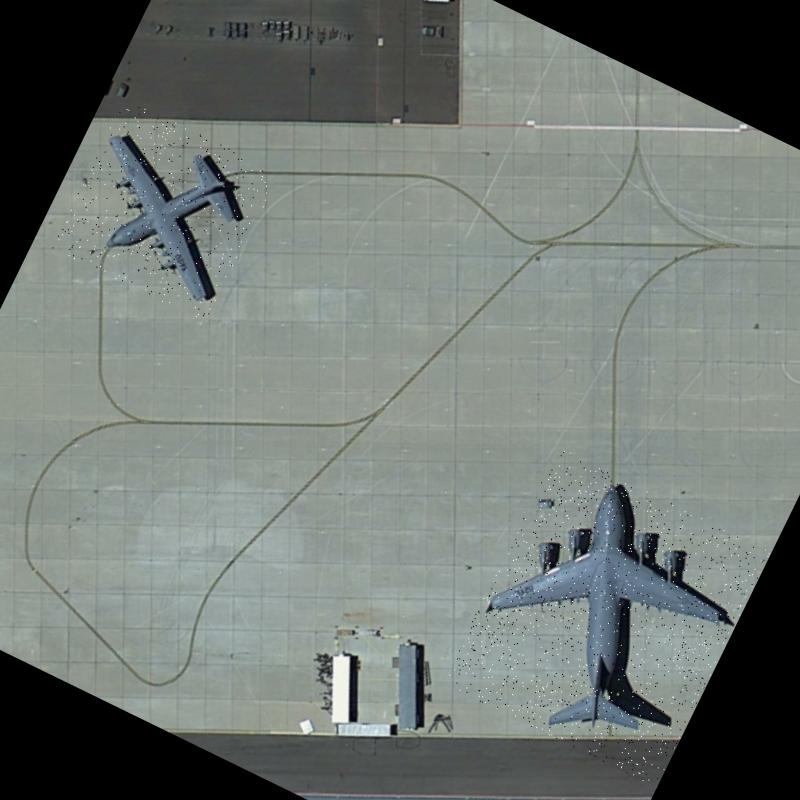A2: (50, 97, 280, 324)
A3: (441, 447, 770, 787)
